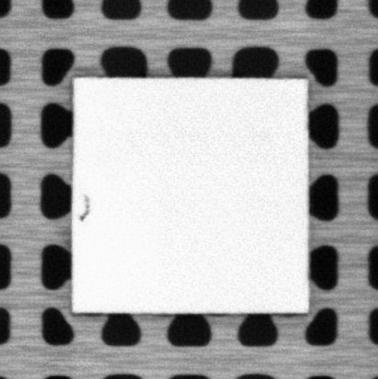DIE_INK: (77, 193, 92, 223)
